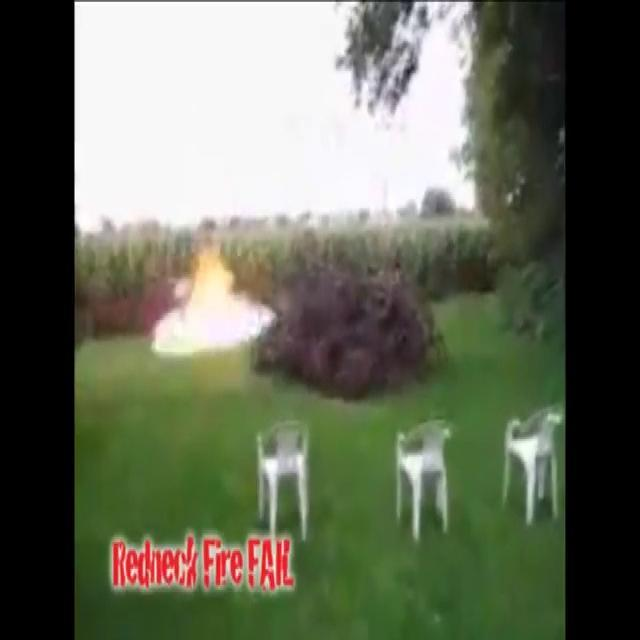Fire: (161, 248, 248, 364)
